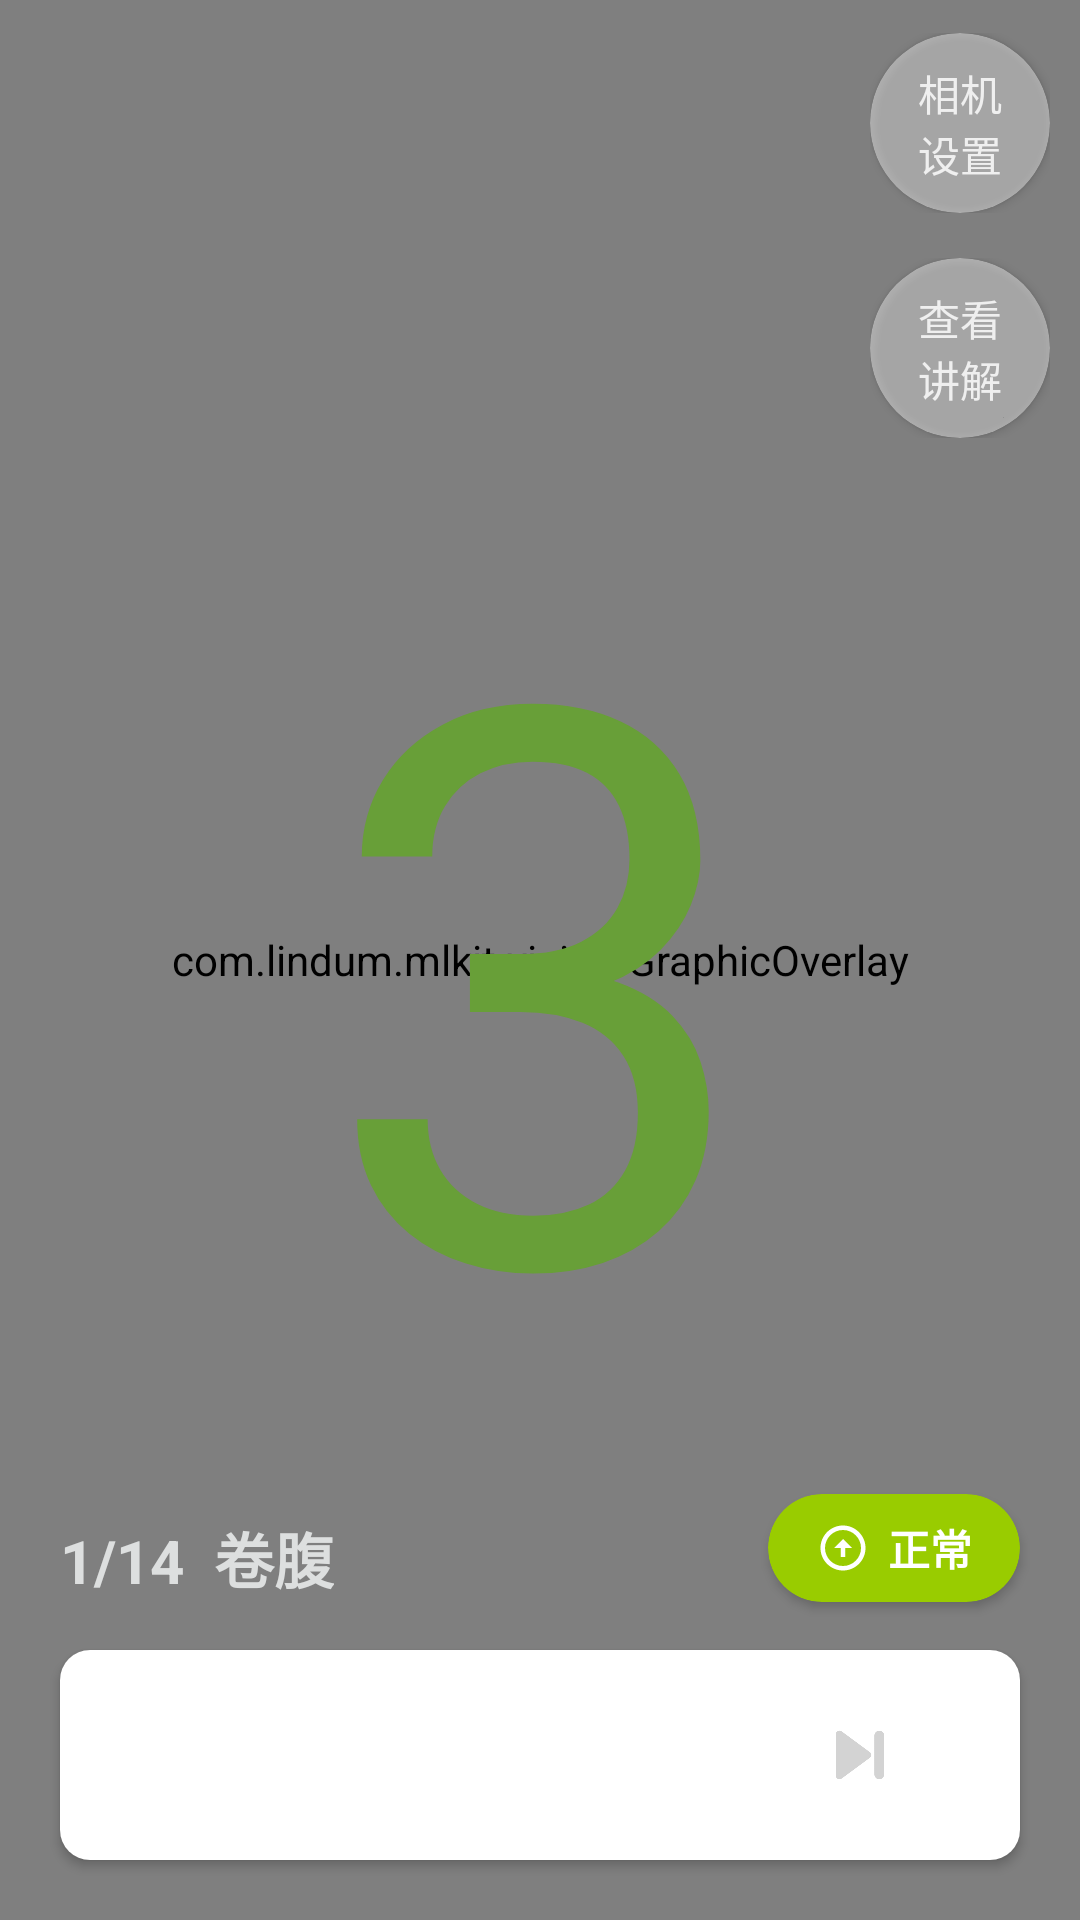

Locate icon controls on the screen. Image size 1080x1920, boxes as (x1, y1, x2, y2).
next: (836, 1731, 884, 1779)
Status icon: (820, 1525, 866, 1571)
